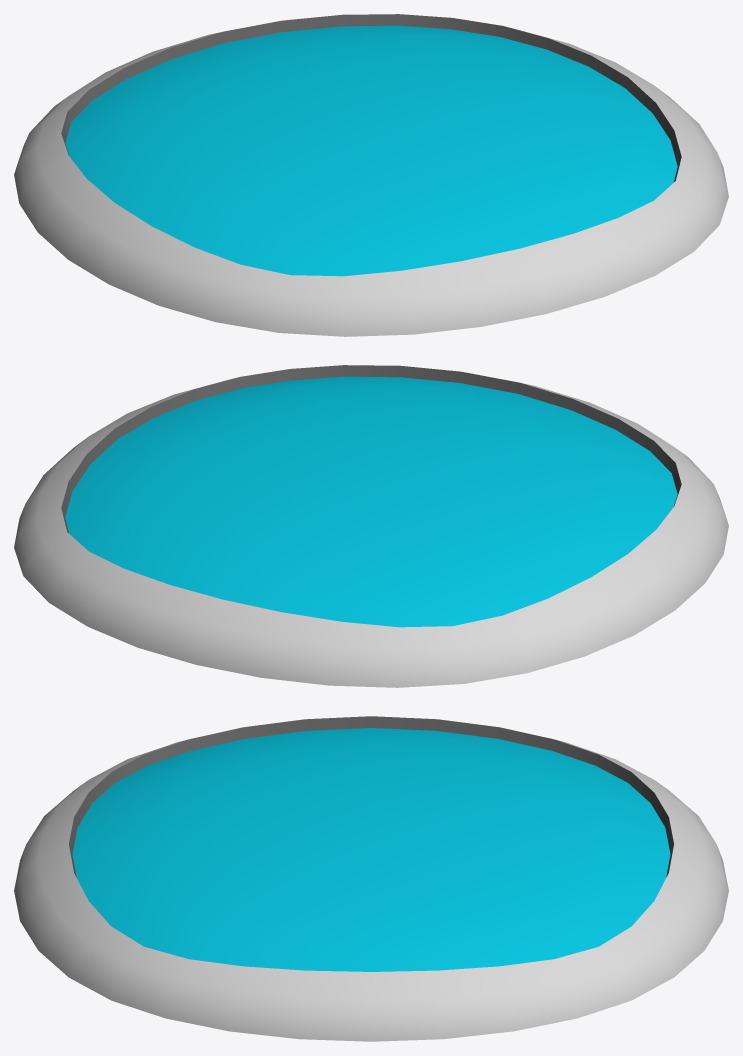
The model's file is CollectPod.fbx.
3 views of the same model, one above another, from view 1: azimuth 30°, elevation 25°; view 2: azimuth 150°, elevation 25°; view 3: azimuth 270°, elevation 25° (orthographic). The views are drawn at different scales.
Visible parts, largest first — view 1: pCube1; view 2: pCube1; view 3: pCube1.
Boxes of the visible parts, x1=… form: pCube1: x1=14, y1=14, x2=728, y2=336; pCube1: x1=14, y1=365, x2=728, y2=687; pCube1: x1=14, y1=716, x2=728, y2=1041.
Bounding box in the file's own units: 3.4 × 0.3685 × 3.4.
